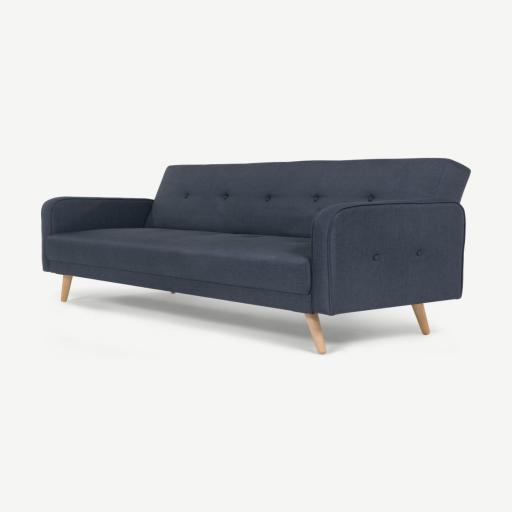back_cushion: (132, 157, 460, 236)
left_arm: (372, 189, 470, 321)
legs: (304, 313, 325, 354), (412, 303, 430, 335), (61, 275, 73, 302)
right_arm: (43, 202, 139, 267)
seat_cushion: (46, 232, 371, 298)
two-seater: (0, 0, 511, 512)
